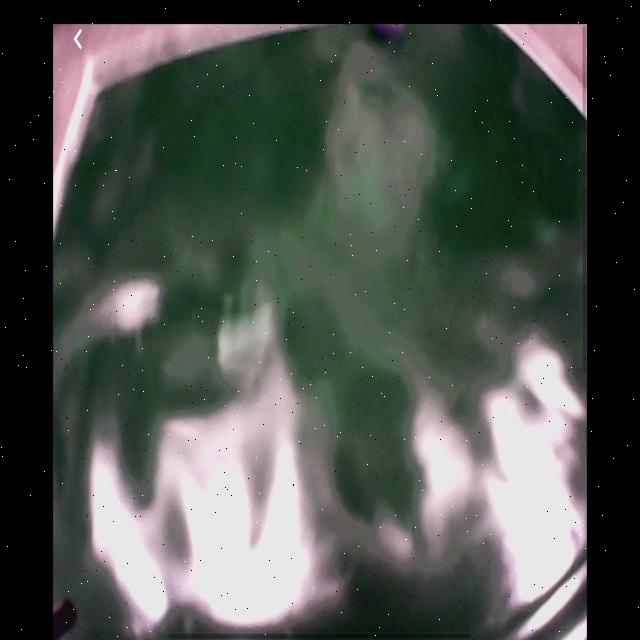ball: (372, 26, 412, 44)
